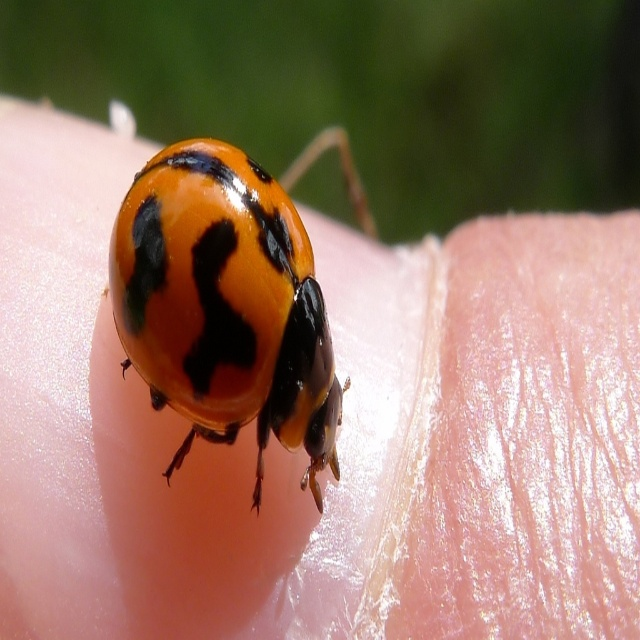Ladybug: (101, 132, 350, 518)
